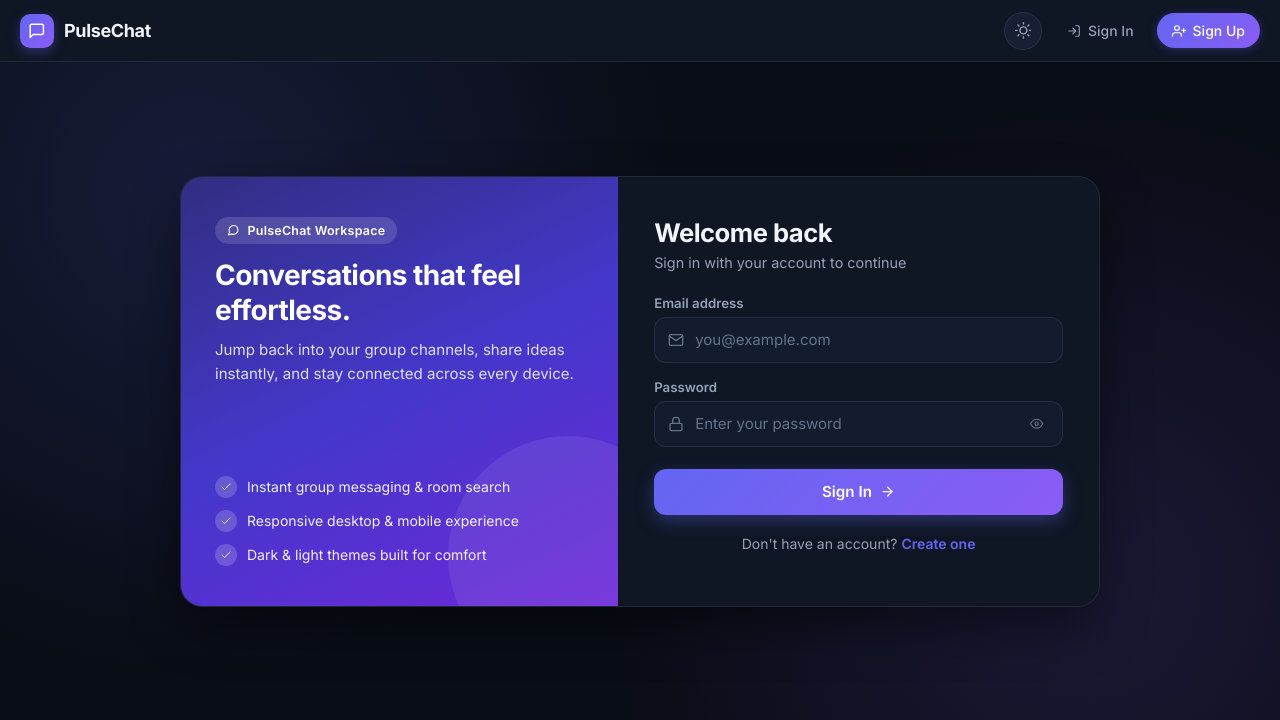
navigates to Create account page and validates password length
The image size is (1280, 720).
Click the link "Create one" at [938, 543], box [901,534,975,552]
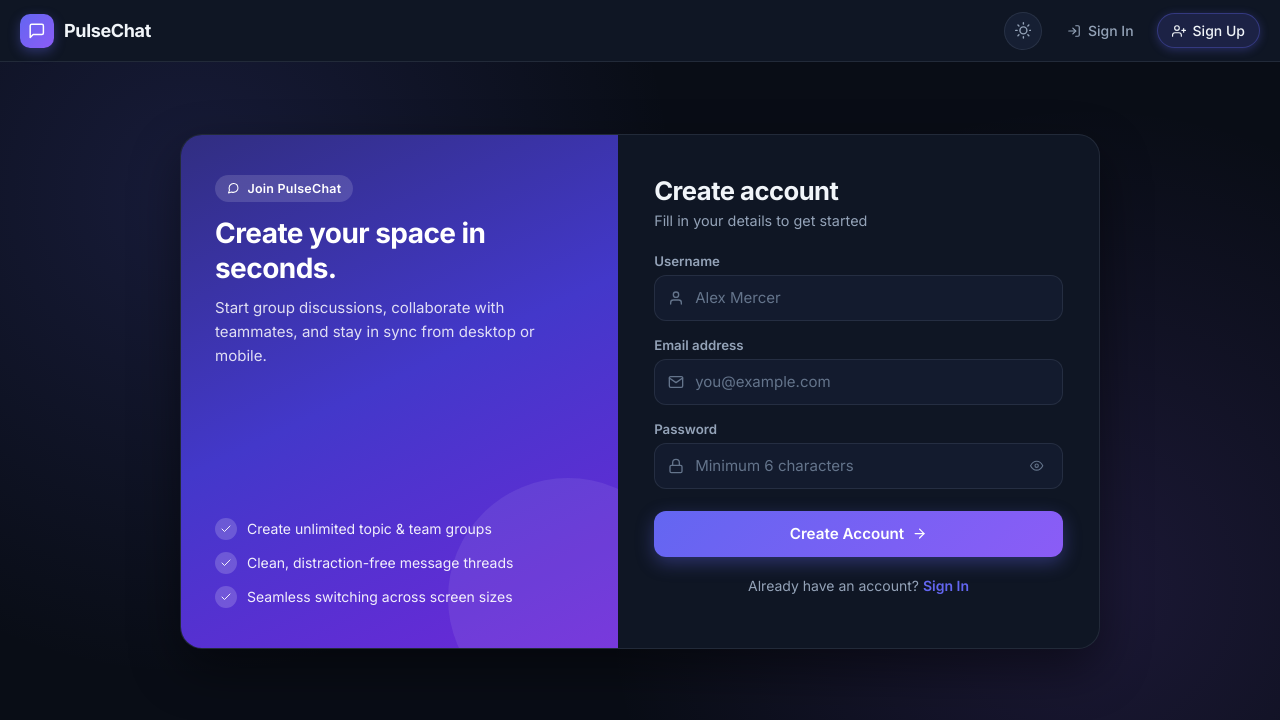
expect the heading "Create account" is shown: met, box [654,174,838,206]
Type "Alex" into the field labelled "Username" at [859, 298], box [654,274,1063,320]
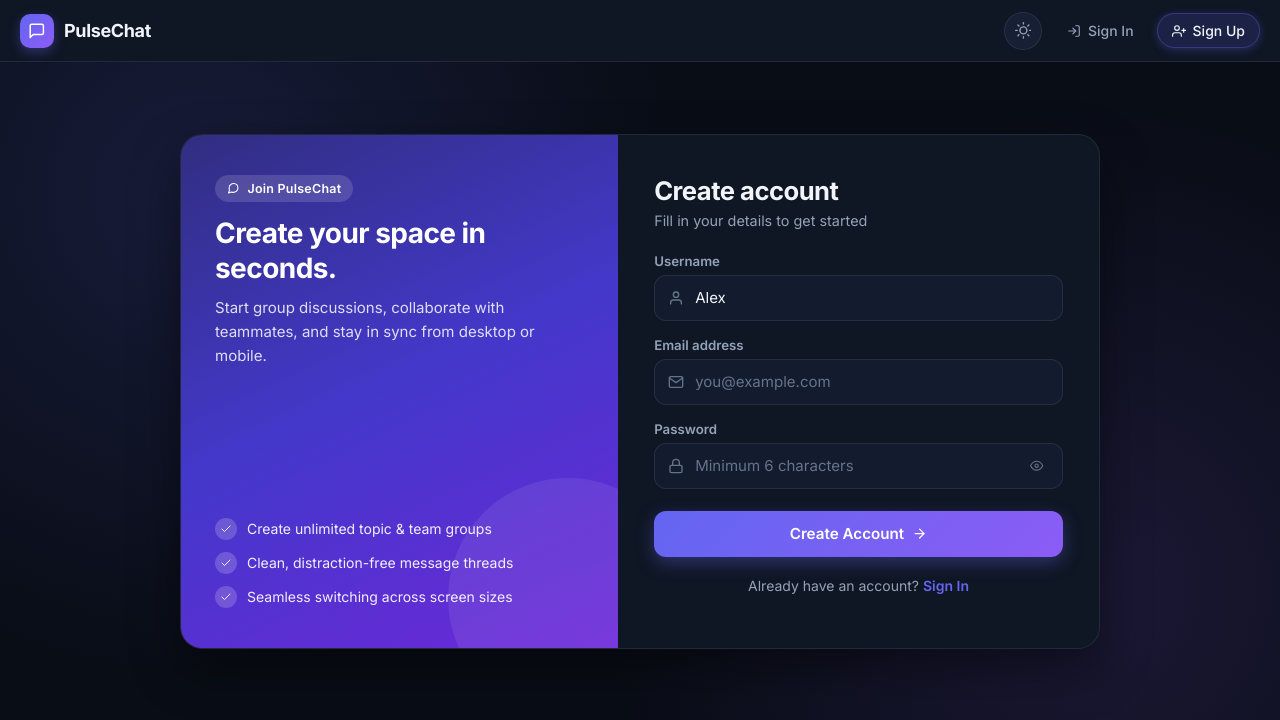
Type "alex@example.com" into the field labelled "Email address" at [859, 382], box [654,358,1063,404]
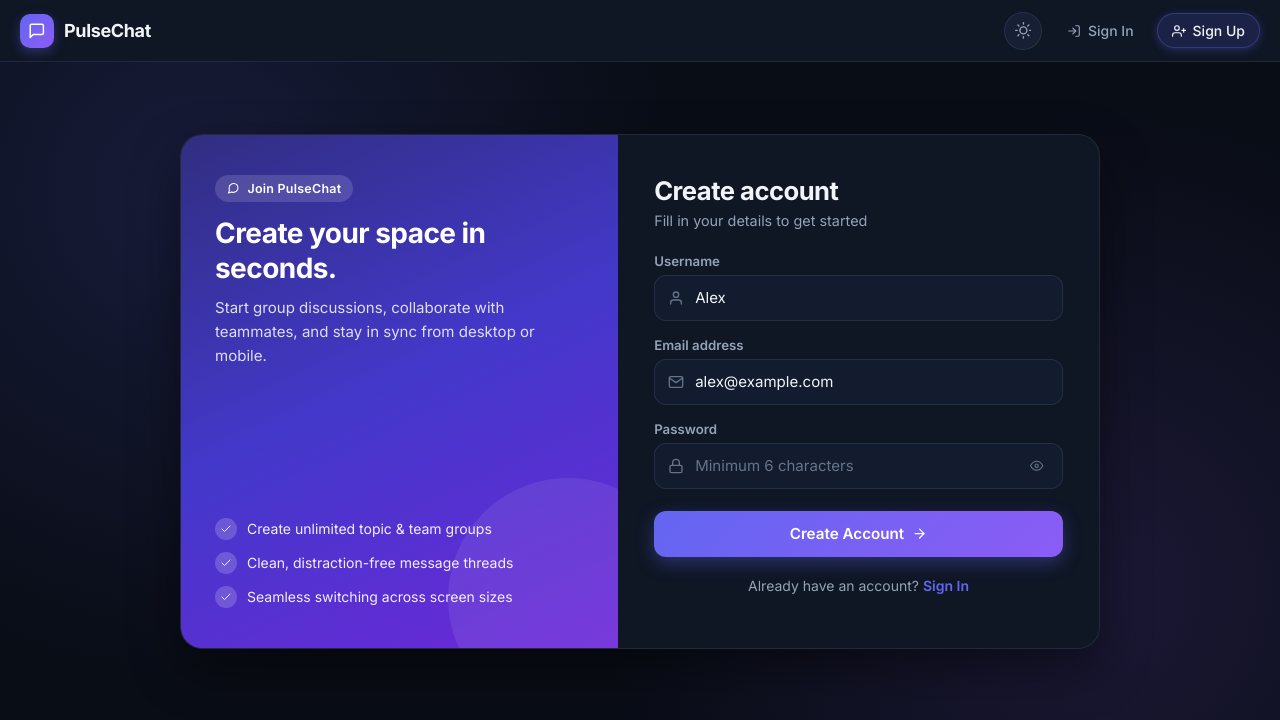
Type "123" into the password field labelled "Password" at [859, 466], box [654,442,1063,488]
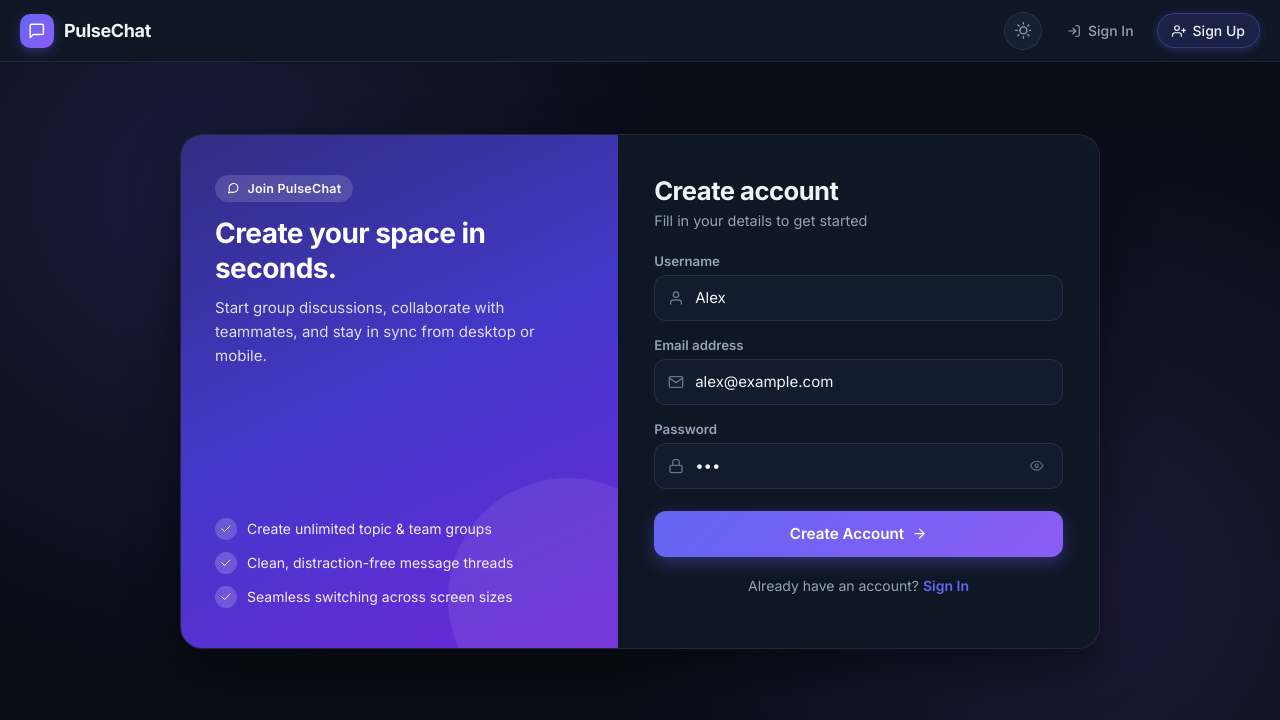
Click the button "Create Account" at [859, 534], box [654,510,1063,556]
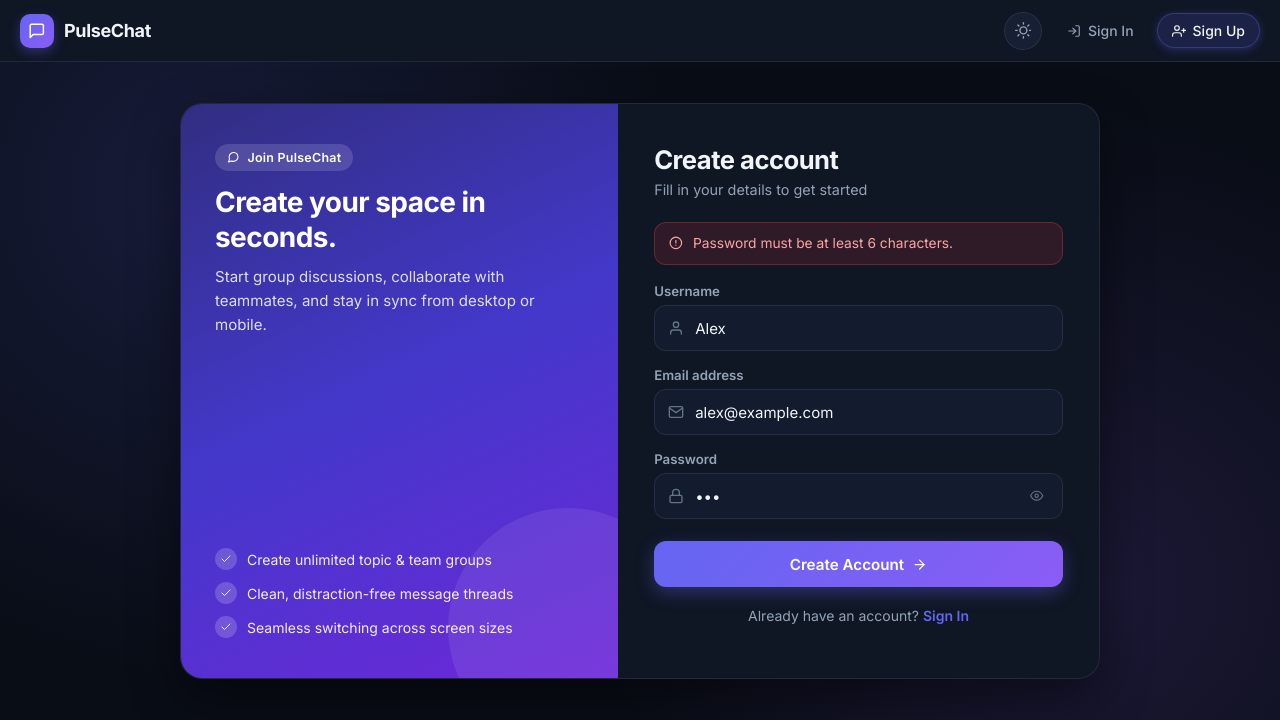
expect the text "Password must be at least 6 characters." is shown: met, box [693,234,953,253]
